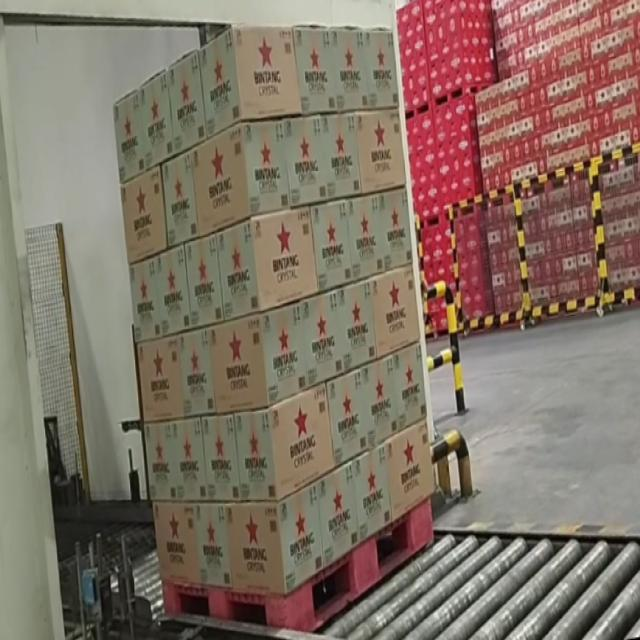pallet: (109, 13, 443, 640)
